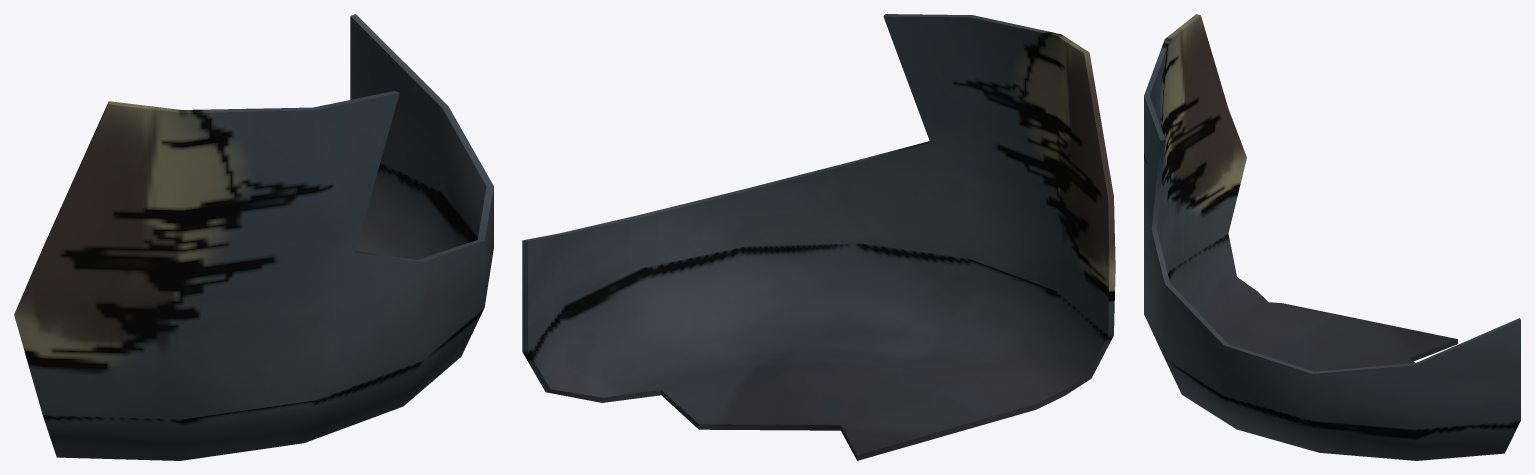
File: jug_gib_1.fbx
The picture shows the model from 3 angles, left to right: view 1: azimuth 30°, elevation 25°; view 2: azimuth 150°, elevation 25°; view 3: azimuth 270°, elevation 25°; orthographic projection. The views are drawn at different scales.
Parts seen in each view (by area): view 1: jug_gib_1; view 2: jug_gib_1; view 3: jug_gib_1.
Part boxes in pixels (bbox=[...]): jug_gib_1: bbox=[14, 14, 493, 460]; jug_gib_1: bbox=[522, 14, 1115, 460]; jug_gib_1: bbox=[1144, 14, 1520, 460].
Bounding box in the file's own units: 176 × 118 × 138.
